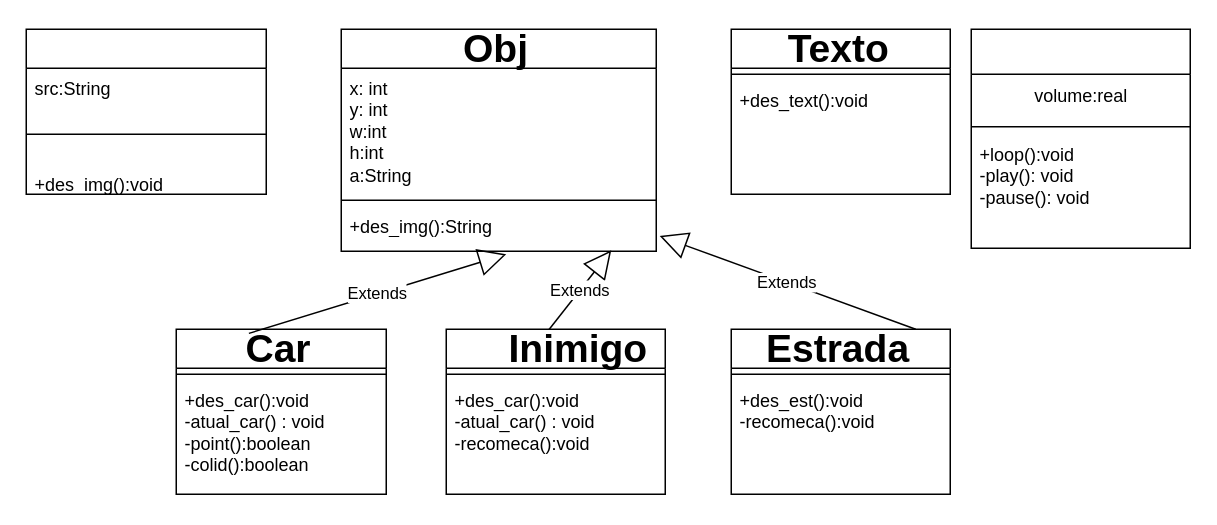
This 1217x525 diagram has some shape labels left out. Each missing label, with the box of its shape:
Audio: (970, 28, 1190, 248)
Image: (25, 28, 266, 194)
